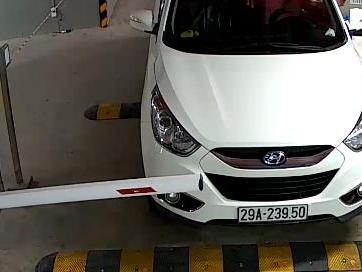car: (238, 203, 311, 221)
